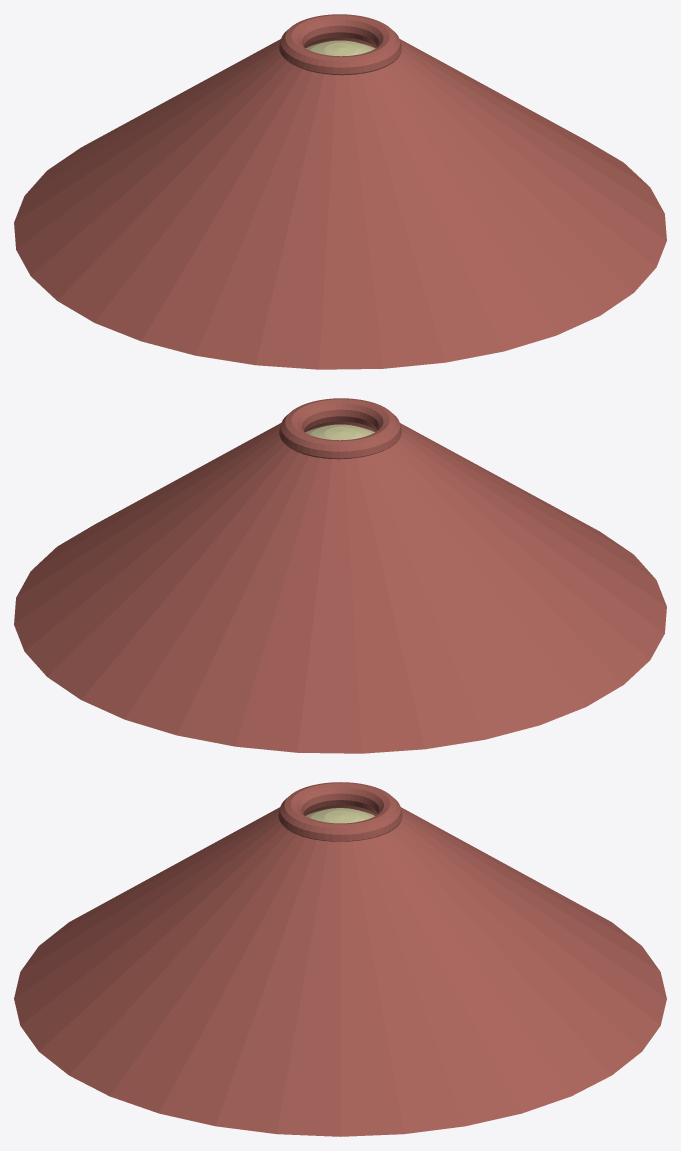
The model's file is lampa_nie_na_stol_by_szymon.fbx.
3 views of the same model, one above another, from view 1: azimuth 30°, elevation 25°; view 2: azimuth 150°, elevation 25°; view 3: azimuth 270°, elevation 25° (orthographic).
Parts seen in each view (by area): view 1: Kula; view 2: Kula; view 3: Kula.
Part boxes in pixels (box(x1,y1,x2,y2)): Kula: box(14, 14, 666, 369); Kula: box(14, 398, 666, 753); Kula: box(14, 782, 666, 1136).
Bounding box in the file's own units: 3.25 × 1.08 × 3.25.
